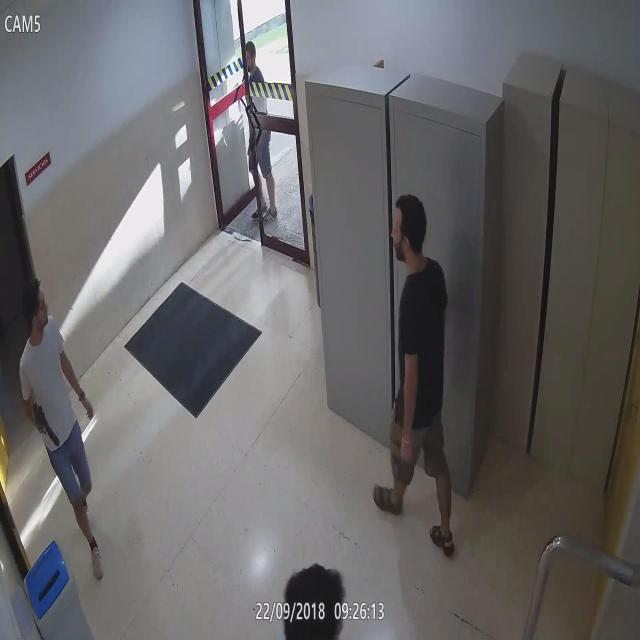pistol: (29, 395, 62, 458)
